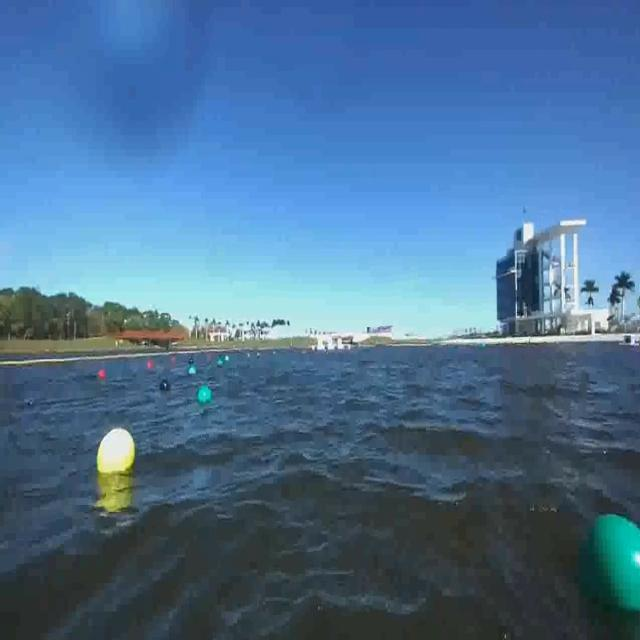black-buoy: (161, 379, 172, 394)
green-buoy: (575, 510, 640, 617), (199, 385, 213, 406)
yellow-buoy: (96, 428, 135, 476)
